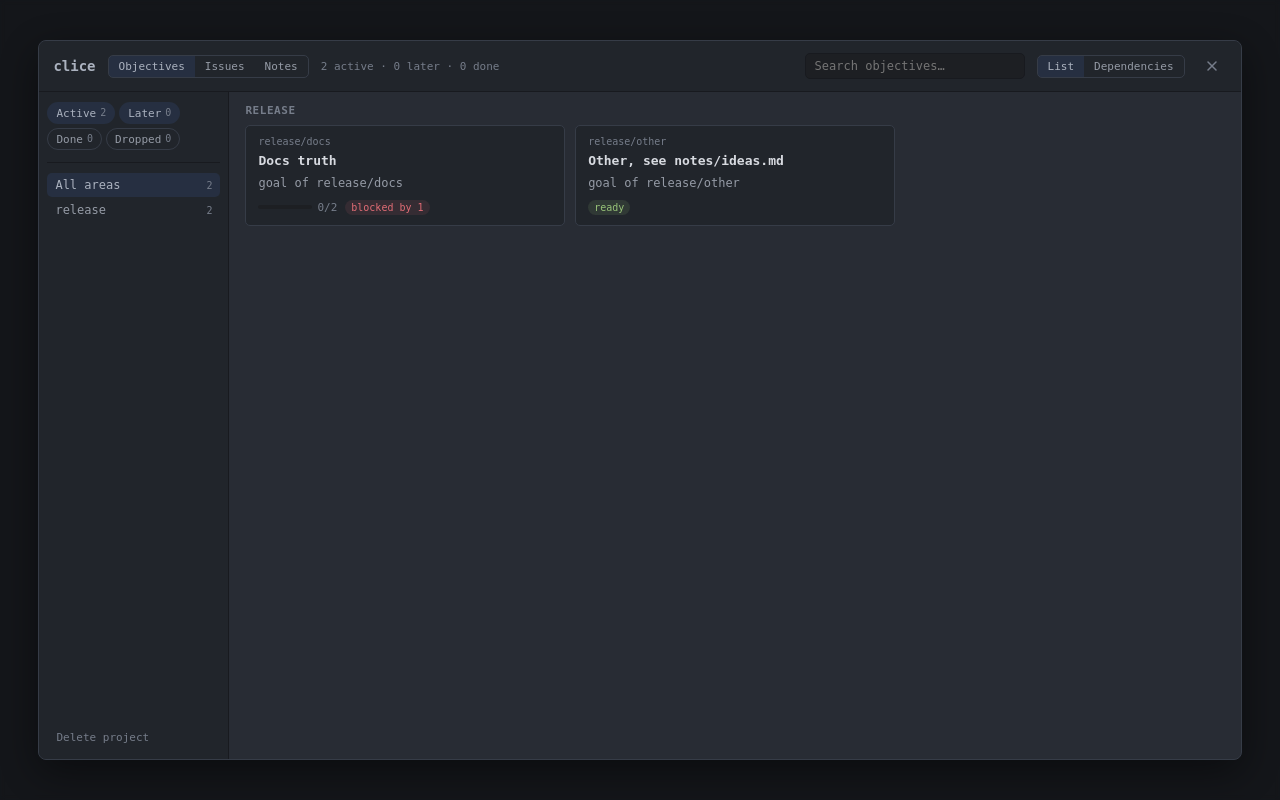
Test: the notes view › lists the notes as a tree, the archive closed, and shows one in full
Click the button "Notes".
click(281, 66)  # box [254,56,308,76]
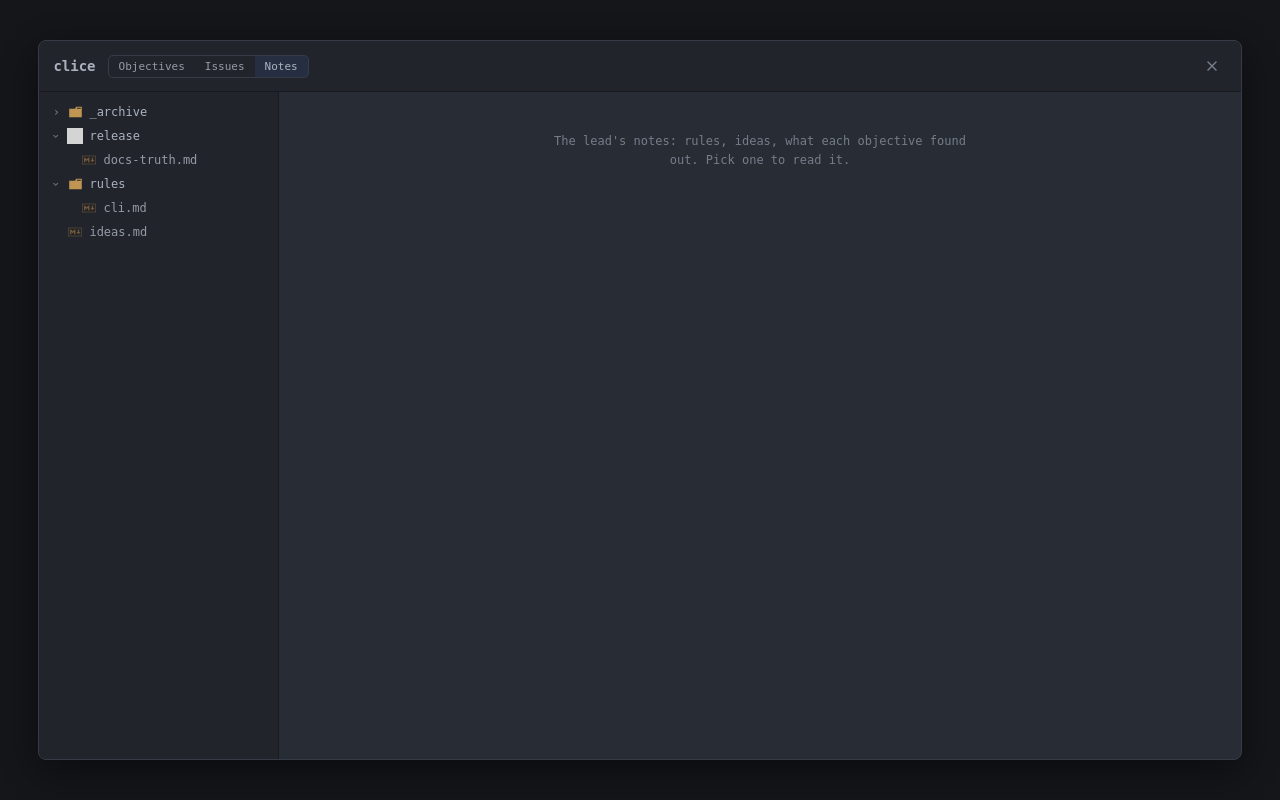
expect the list item "docs-truth.md" is shown: met
Click the list item "docs-truth.md".
click(159, 160)  # box [43,148,274,172]
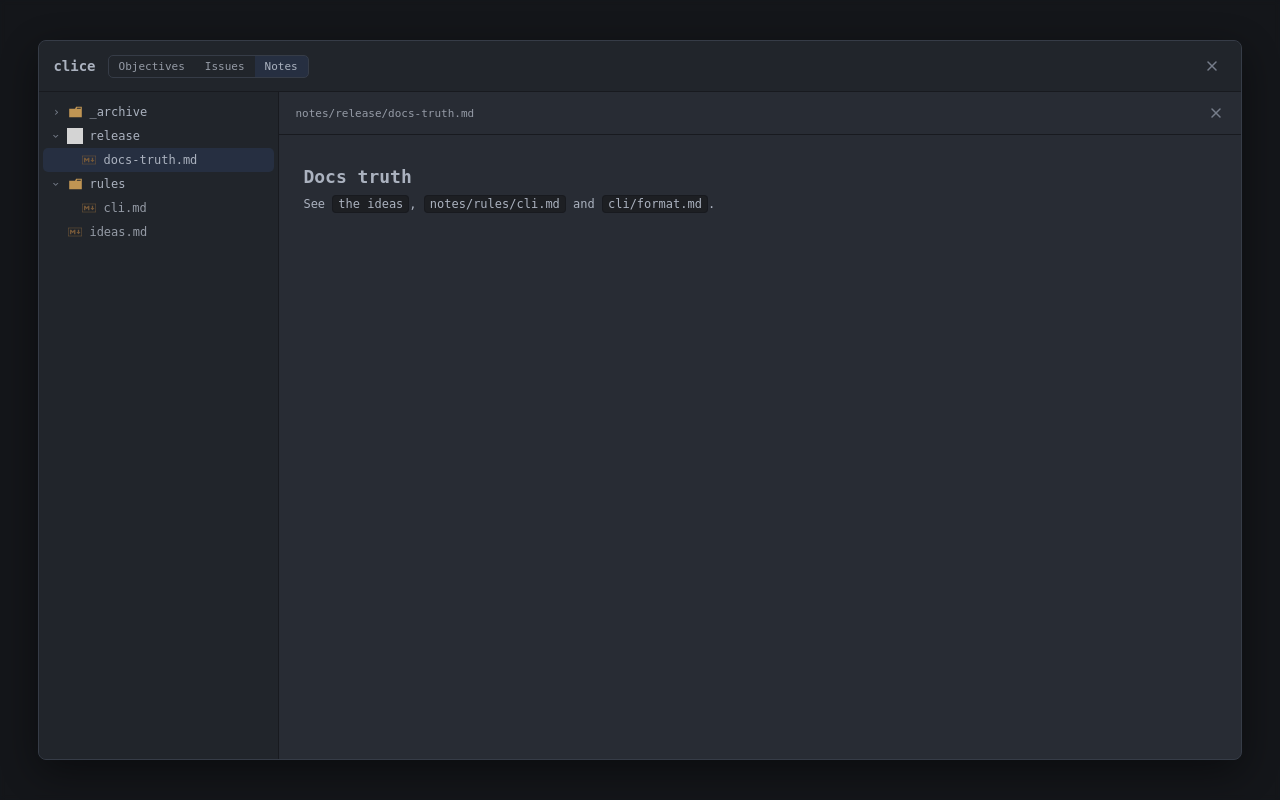
expect the heading "Docs truth" is shown: met, box [303,166,412,187]
Its own links: ../ against the note, notes/ and the rest as the board reads them.
Click the button "the ideas".
click(371, 204)  # box [332,195,409,213]
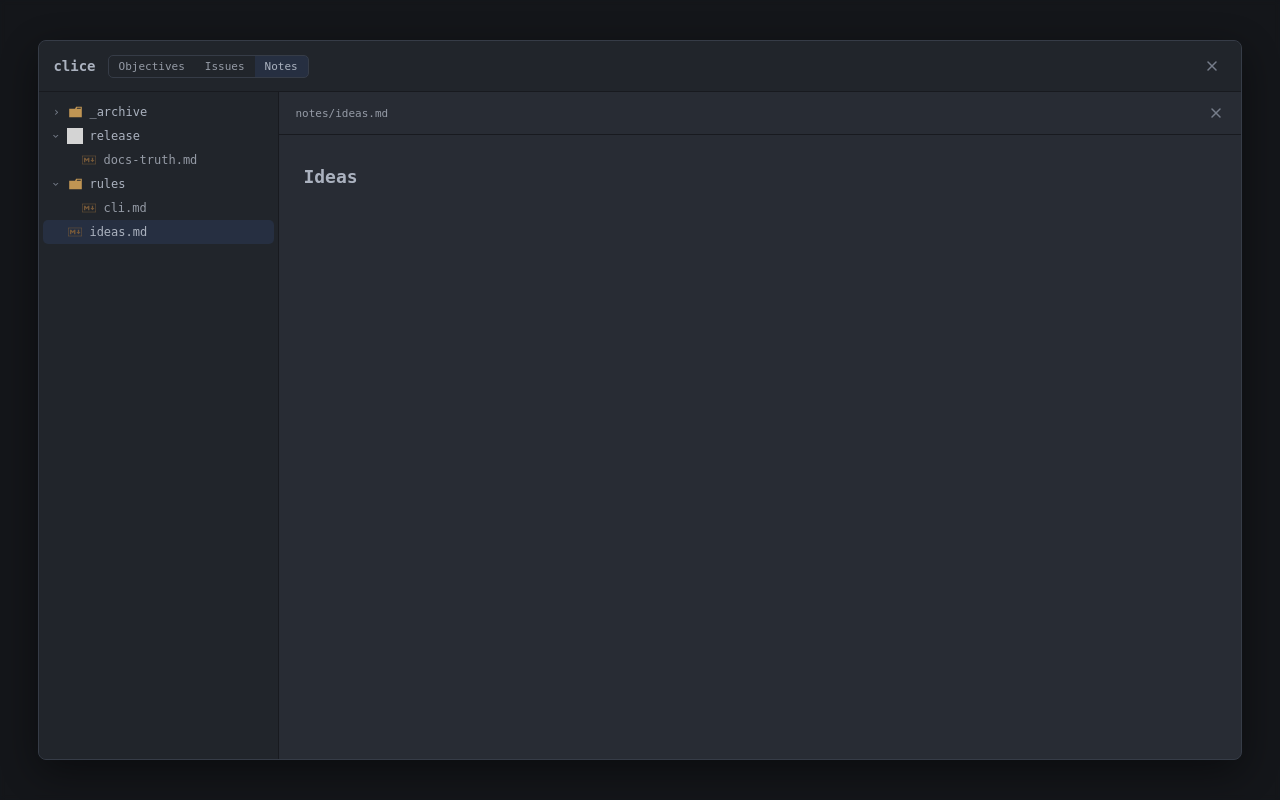
expect the list item with class "selected" reads "ideas.md": met, box [43,220,274,244]
expect the heading "Ideas" is shown: met, box [303,166,358,187]
